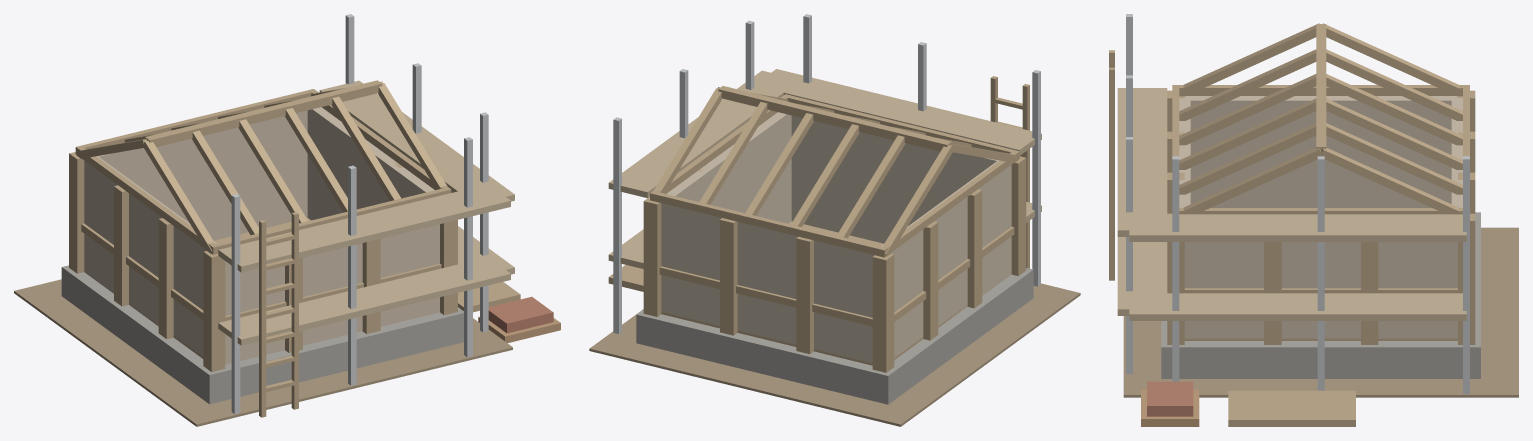
Rendered from rabbit_hutch_site_9.glb.
The picture shows the model from 3 angles, left to right: view 1: azimuth 30°, elevation 25°; view 2: azimuth 150°, elevation 25°; view 3: azimuth 270°, elevation 25°; orthographic projection. The views are drawn at different scales.
Parts seen in each view (by area): view 1: body; view 2: body; view 3: body.
Boxes of the visible parts, left/top/right/bottom form: body: left=14, top=14, right=560, bottom=426; body: left=589, top=14, right=1080, bottom=426; body: left=1109, top=14, right=1518, bottom=426.
Bounding box in the file's own units: 1.6 × 0.9 × 1.41.
